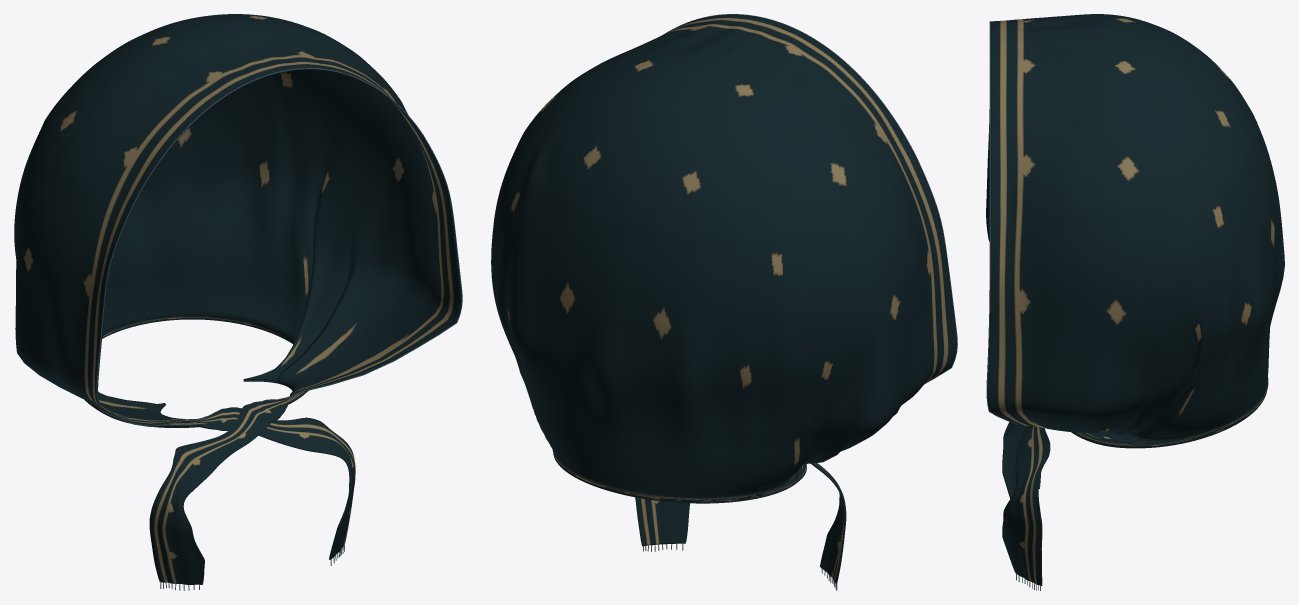
File: Feminine-jersey-volume-pashmina248-headgear.glb
The picture shows the model from 3 angles, left to right: view 1: azimuth 30°, elevation 25°; view 2: azimuth 150°, elevation 25°; view 3: azimuth 270°, elevation 25°; orthographic projection. The views are drawn at different scales.
Parts seen in each view (by area): view 1: 226 headgear / Headwear / continuous woven pashmina239, 226 headgear / Headwear / face edge239; view 2: 226 headgear / Headwear / continuous woven pashmina239, 226 headgear / Headwear / face edge239; view 3: 226 headgear / Headwear / continuous woven pashmina239, 226 headgear / Headwear / face edge239.
Part boxes in pixels (box(x1,y1,x2,y2)): 226 headgear / Headwear / continuous woven pashmina239: box(14, 14, 461, 584); 226 headgear / Headwear / face edge239: box(96, 68, 462, 426); 226 headgear / Headwear / continuous woven pashmina239: box(491, 14, 956, 584); 226 headgear / Headwear / face edge239: box(665, 14, 957, 383); 226 headgear / Headwear / continuous woven pashmina239: box(986, 14, 1284, 585); 226 headgear / Headwear / face edge239: box(986, 21, 1027, 425).
Size of the model in its own units: 1.02 by 1.35 by 0.7113.
3 materials, 1 textured.
